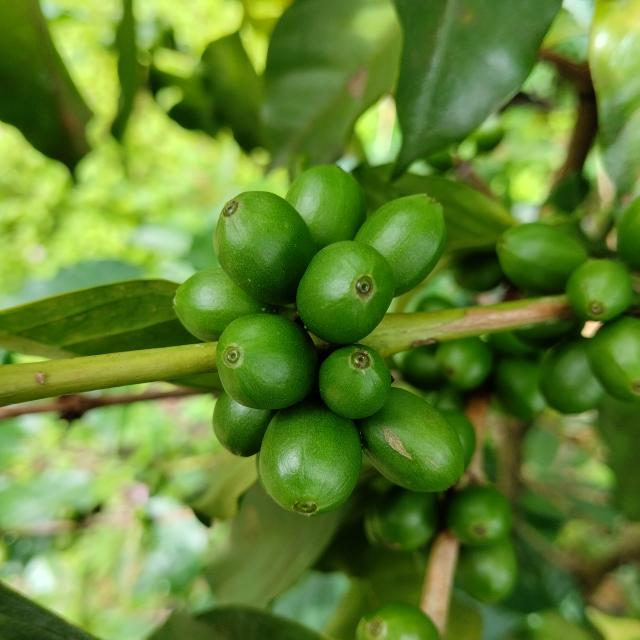green: (259, 396, 362, 516), (213, 191, 317, 305), (358, 388, 465, 492), (296, 240, 395, 344), (215, 313, 319, 410), (354, 194, 447, 296), (173, 268, 272, 342), (285, 164, 367, 250), (497, 222, 588, 294), (319, 344, 391, 419), (589, 316, 640, 402), (212, 391, 278, 457), (566, 259, 634, 321), (356, 604, 440, 640)
